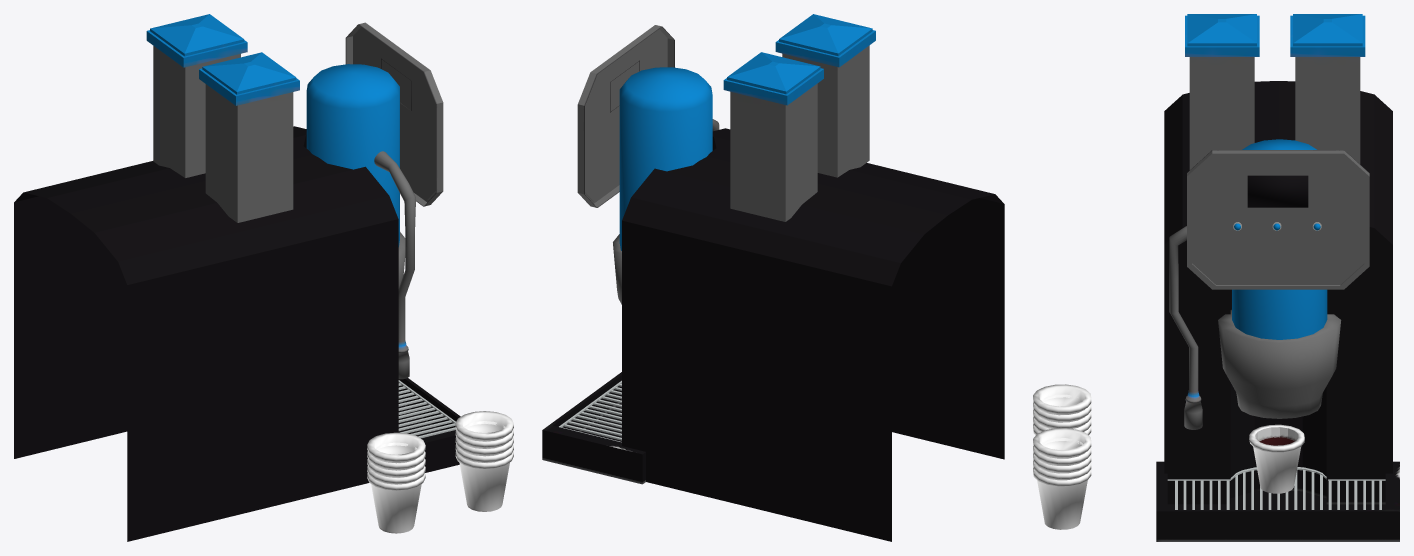
File: Cafetera.obj
3 renders of one model, left to right at view 1: azimuth 30°, elevation 25°; view 2: azimuth 150°, elevation 25°; view 3: azimuth 270°, elevation 25°, orthographic.
Visible parts, largest first — view 1: Cafetera_Cube.003; view 2: Cafetera_Cube.003; view 3: Cafetera_Cube.003.
Boxes of the visible parts, box(x1,y1,x2,y2) form: Cafetera_Cube.003: box(14, 14, 513, 541); Cafetera_Cube.003: box(542, 14, 1004, 541); Cafetera_Cube.003: box(1033, 14, 1399, 541).
Bounding box in the file's own units: 0.7151 × 0.8265 × 0.6466.
